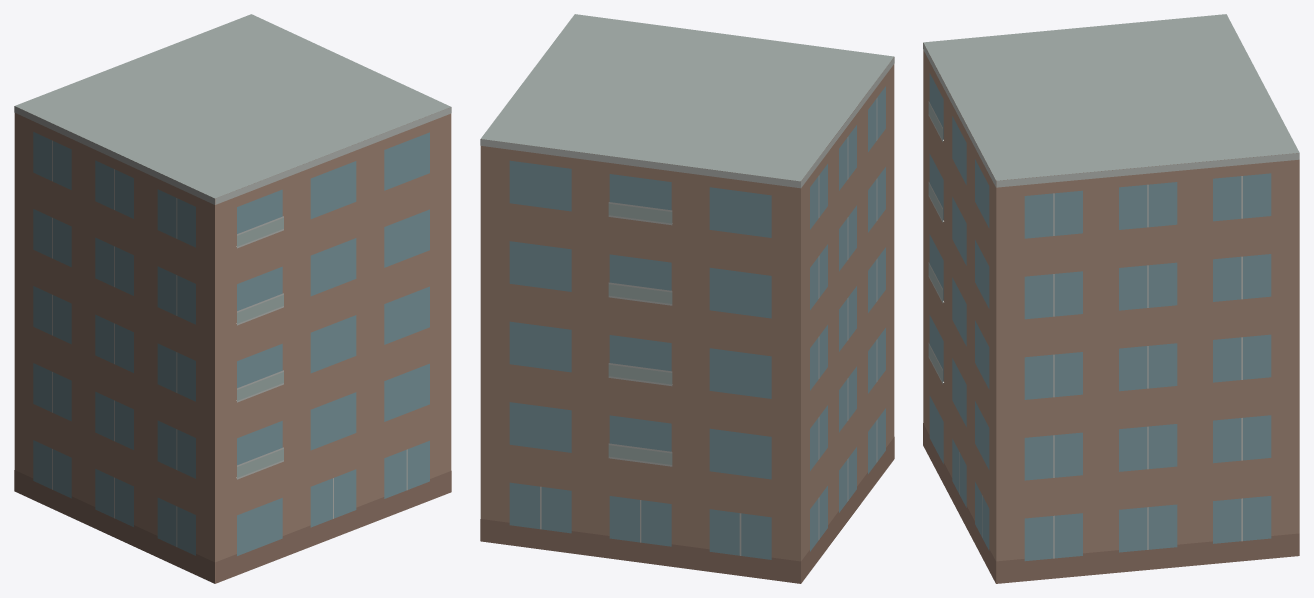
The model's file is survey-upis-32671608.glb.
The picture shows the model from 3 angles, left to right: view 1: azimuth 30°, elevation 25°; view 2: azimuth 150°, elevation 25°; view 3: azimuth 270°, elevation 25°; orthographic projection. The views are drawn at different scales.
Parts seen in each view (by area): view 1: survey-upis-32671608.tmp; view 2: survey-upis-32671608.tmp; view 3: survey-upis-32671608.tmp.
Part boxes in pixels (bbox=[...]): survey-upis-32671608.tmp: bbox=[14, 14, 451, 583]; survey-upis-32671608.tmp: bbox=[480, 14, 894, 583]; survey-upis-32671608.tmp: bbox=[923, 14, 1299, 583].
Size of the model in its own units: 12.7 by 14.3 by 12.12.
